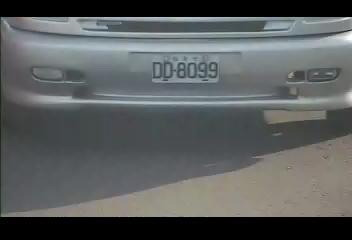plate: (150, 53, 221, 82)
